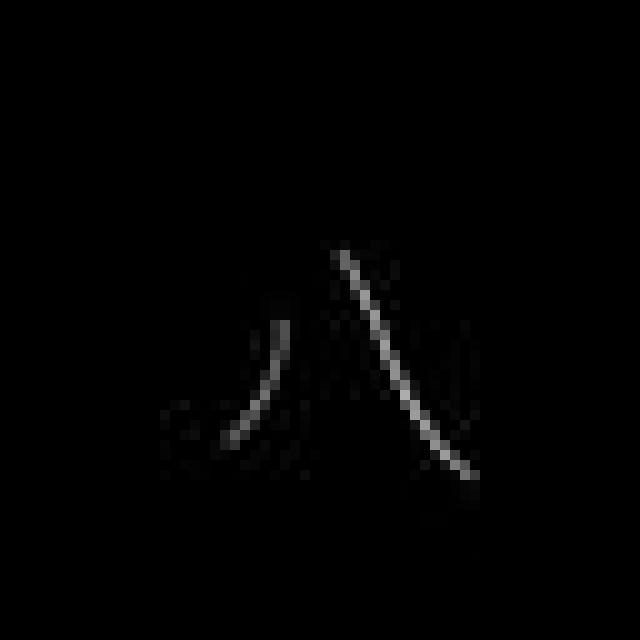8 -eight-: (216, 226, 492, 498)
